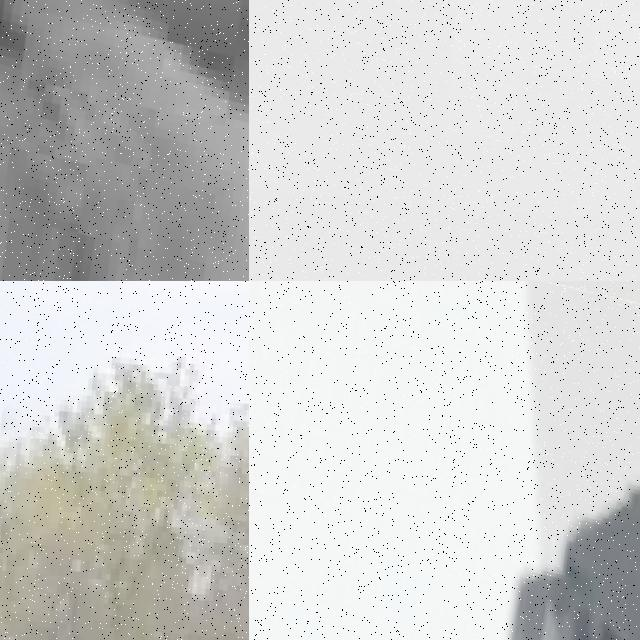drone: (249, 281, 640, 640), (0, 0, 249, 281)
